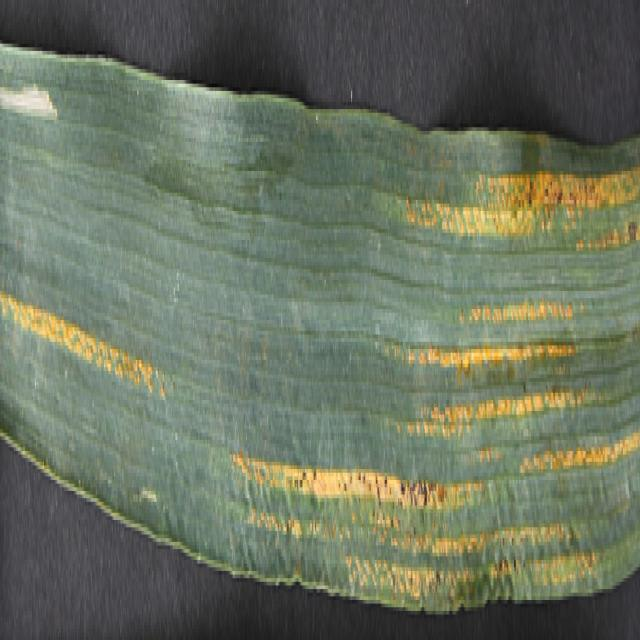leaf rust: (405, 134, 640, 600), (1, 222, 170, 465)
